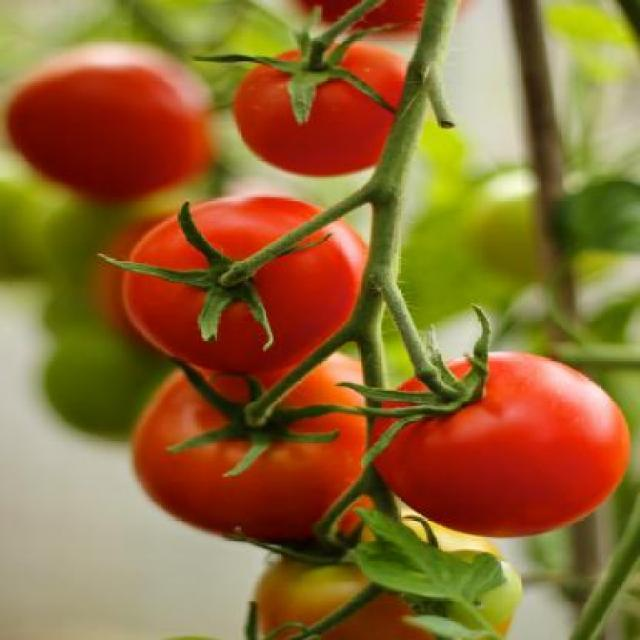Tomato: (128, 356, 380, 556), (370, 352, 628, 536), (98, 196, 364, 374), (188, 1, 408, 179), (222, 524, 518, 640), (10, 50, 207, 207), (294, 0, 474, 38)
